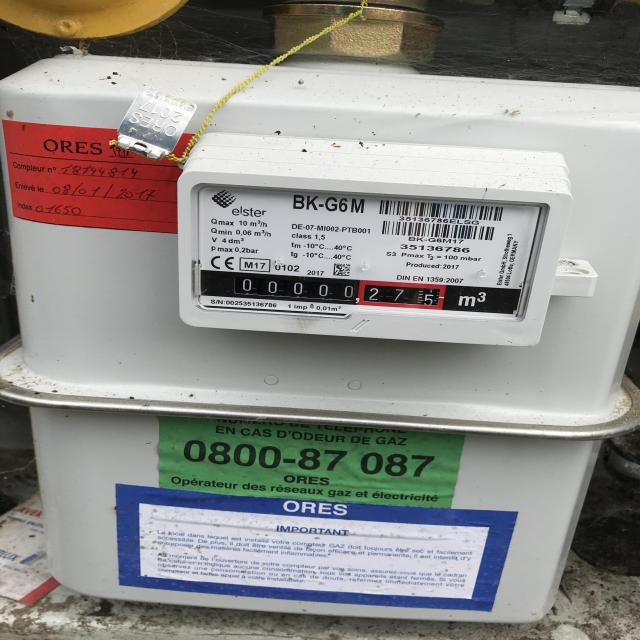gaz_meter: (201, 185, 535, 321)
indication: (205, 268, 446, 312)
